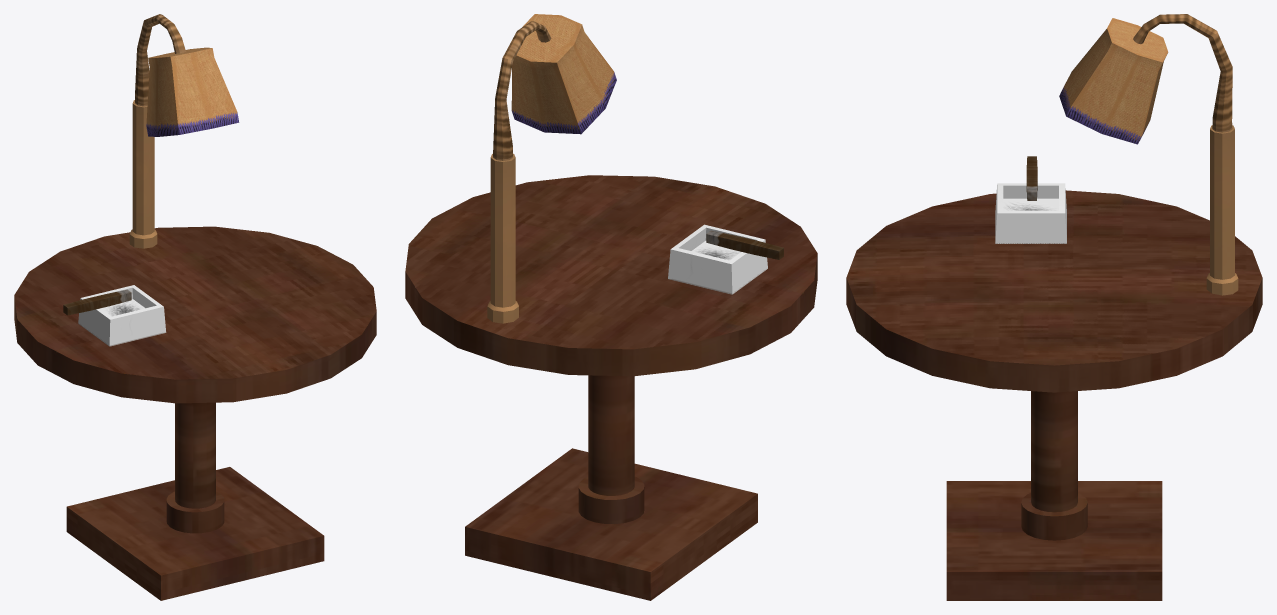
File: SmokingTable_vi.fbx
3 views of the same model, side by side, from view 1: azimuth 30°, elevation 25°; view 2: azimuth 150°, elevation 25°; view 3: azimuth 270°, elevation 25° (orthographic). The views are drawn at different scales.
Parts seen in each view (by area): view 1: Smokingtable; view 2: Smokingtable; view 3: Smokingtable.
Boxes of the visible parts, x1,y1,x2,y2 form: Smokingtable: (14,14,376,600); Smokingtable: (405,14,817,600); Smokingtable: (846,14,1262,600).
Bounding box in the file's own units: 0.0102 × 0.0149 × 0.0102.
1 material, 1 textured.
